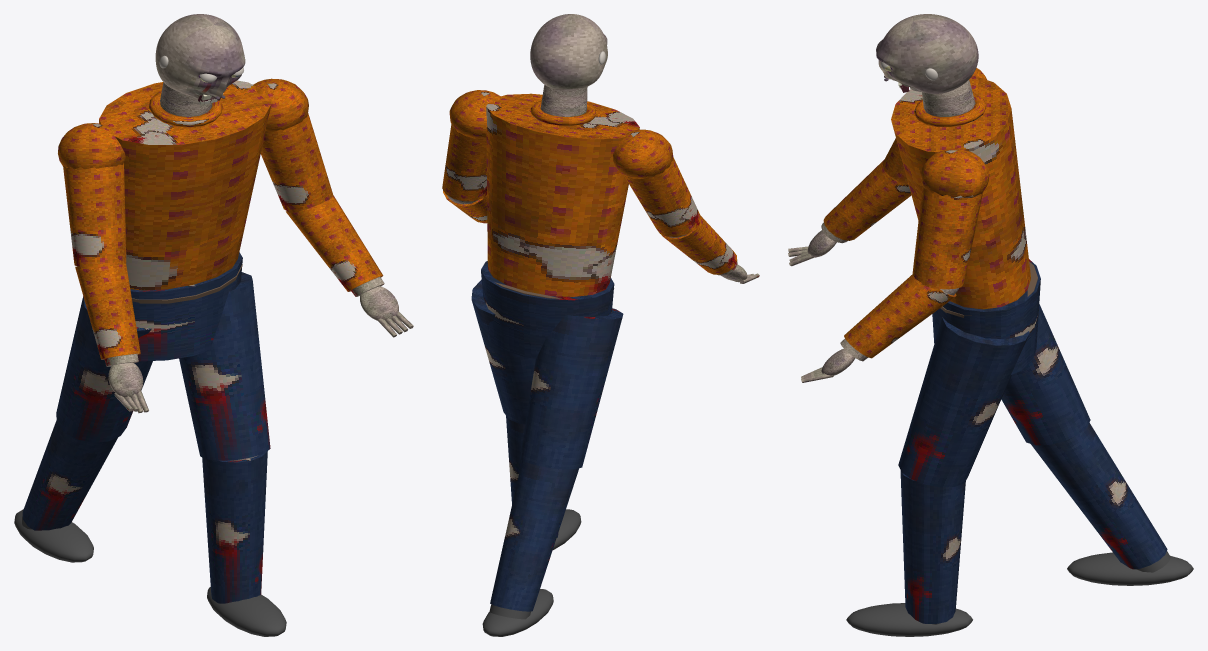
The model's file is Zombie_088.glb.
3 views of the same model, side by side, from view 1: azimuth 30°, elevation 25°; view 2: azimuth 150°, elevation 25°; view 3: azimuth 270°, elevation 25° (orthographic). The views are drawn at different scales.
Parts seen in each view (by area): view 1: Zombie_088, object 18, object 4, object 12, object 13, object 5; view 2: Zombie_088, object 18, object 4, object 12; view 3: Zombie_088, object 18, object 12, object 4.
Part boxes in pixels (box(x1,y1,x2,y2)): Zombie_088: box(14, 78, 333, 636); object 18: box(155, 14, 245, 98); object 4: box(75, 263, 140, 359); object 12: box(286, 195, 383, 291); object 13: box(360, 286, 398, 320); object 5: box(108, 362, 143, 397); Zombie_088: box(442, 85, 700, 636); object 18: box(530, 14, 607, 89); object 4: box(661, 216, 737, 274); object 12: box(443, 190, 487, 223); Zombie_088: box(846, 68, 1193, 636); object 18: box(876, 14, 978, 93); object 12: box(844, 274, 956, 358); object 4: box(823, 159, 911, 240).
Bounding box in the file's own units: 0.8252 × 1.63 × 1.
15 materials, 5 textured.
